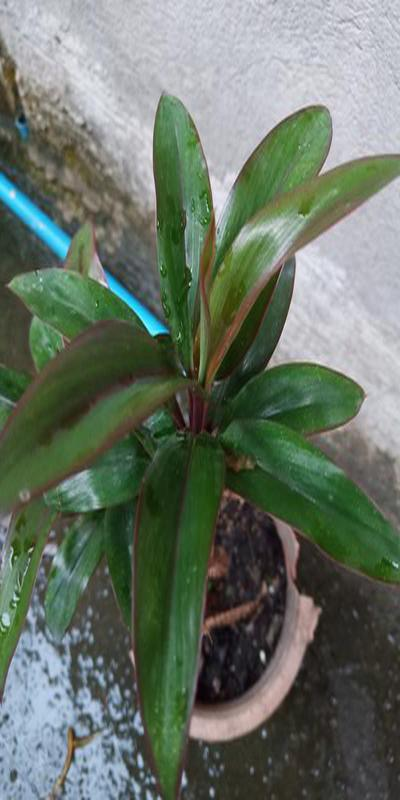Baston de san jose: (34, 132, 374, 710)
